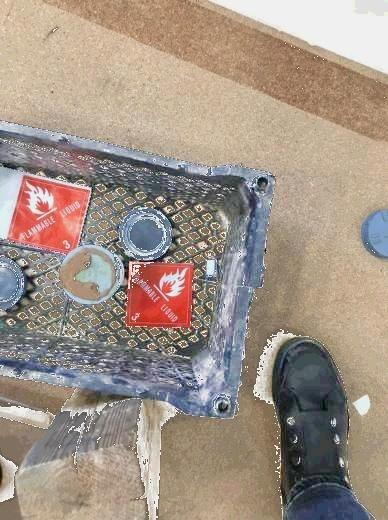flammable: (8, 174, 91, 253), (127, 259, 193, 328)
